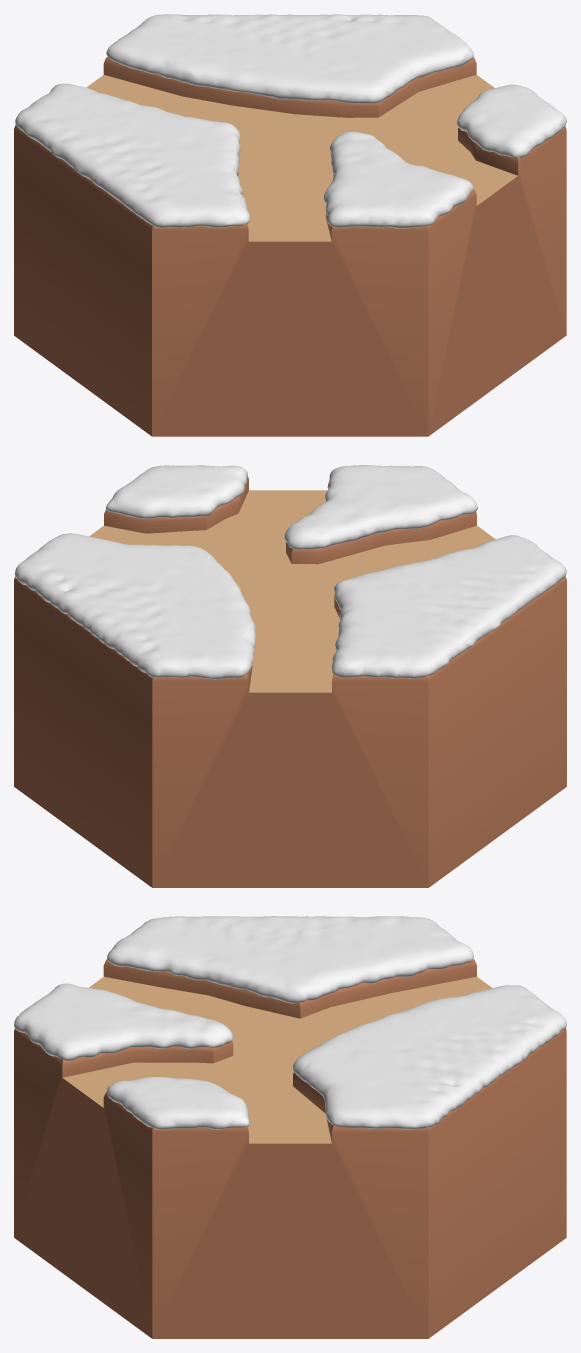
Rendered from hex_rock_roadI.fbx.
The picture shows the model from 3 angles, top to bottom: view 1: azimuth 30°, elevation 25°; view 2: azimuth 150°, elevation 25°; view 3: azimuth 270°, elevation 25°; orthographic projection.
Visible parts, largest first — view 1: hex_rock_roadI.001, SnowBall.001, hex_rock_roadI; view 2: hex_rock_roadI.001, SnowBall.001, hex_rock_roadI; view 3: hex_rock_roadI.001, SnowBall.001, hex_rock_roadI.
Boxes of the visible parts, x1,y1,x2,y2 form: hex_rock_roadI.001: (14, 56, 566, 436); SnowBall.001: (15, 14, 566, 228); hex_rock_roadI: (86, 74, 517, 241); hex_rock_roadI.001: (14, 476, 566, 887); SnowBall.001: (15, 465, 566, 679); hex_rock_roadI: (89, 490, 495, 692); hex_rock_roadI.001: (14, 959, 566, 1338); SnowBall.001: (14, 916, 566, 1129); hex_rock_roadI: (62, 976, 492, 1143).
Size of the model in its own units: 203 by 104 by 231.
